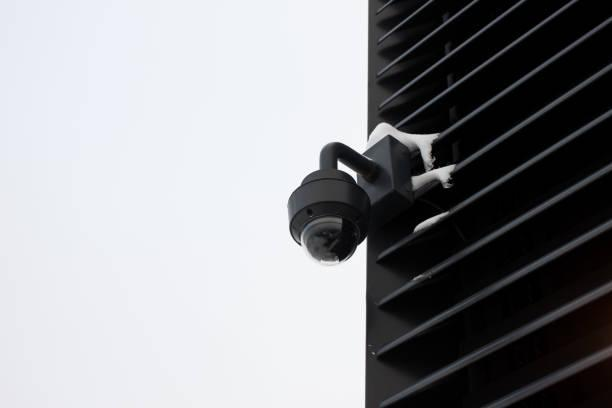camera: (270, 127, 402, 282)
